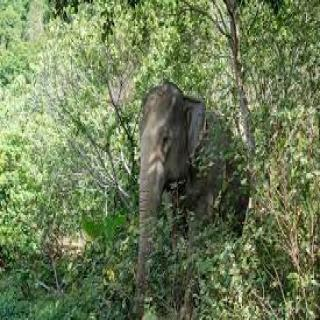Elephant: (129, 77, 254, 308)
